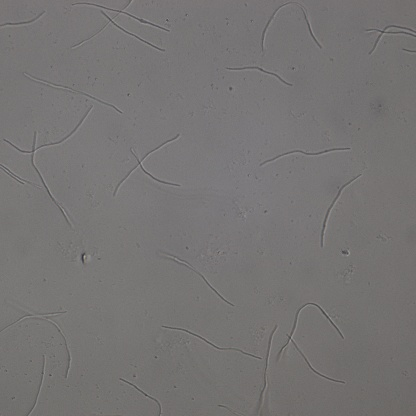Sensitive: (279, 302, 349, 385), (70, 1, 170, 54), (112, 131, 182, 196), (3, 106, 93, 154), (158, 249, 233, 306), (31, 131, 70, 226), (161, 327, 261, 359), (320, 174, 362, 249), (260, 1, 322, 51), (260, 145, 351, 165), (257, 323, 277, 410), (119, 378, 162, 416), (364, 24, 416, 55), (226, 65, 292, 88), (22, 355, 46, 416), (1, 11, 44, 27)
